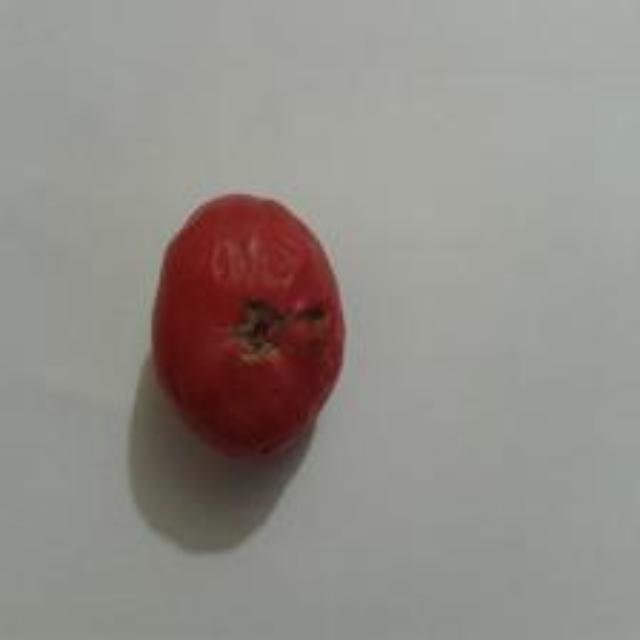defect: (152, 189, 351, 459)
